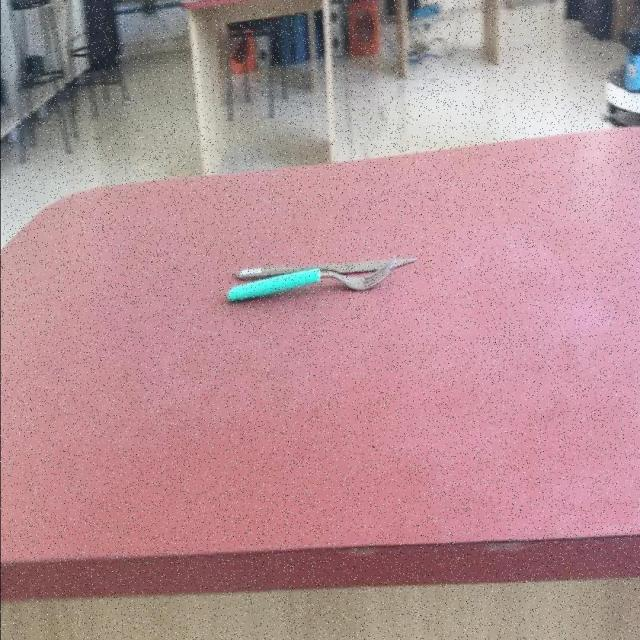Fork: (227, 257, 418, 304)
Knife: (227, 256, 418, 305)
